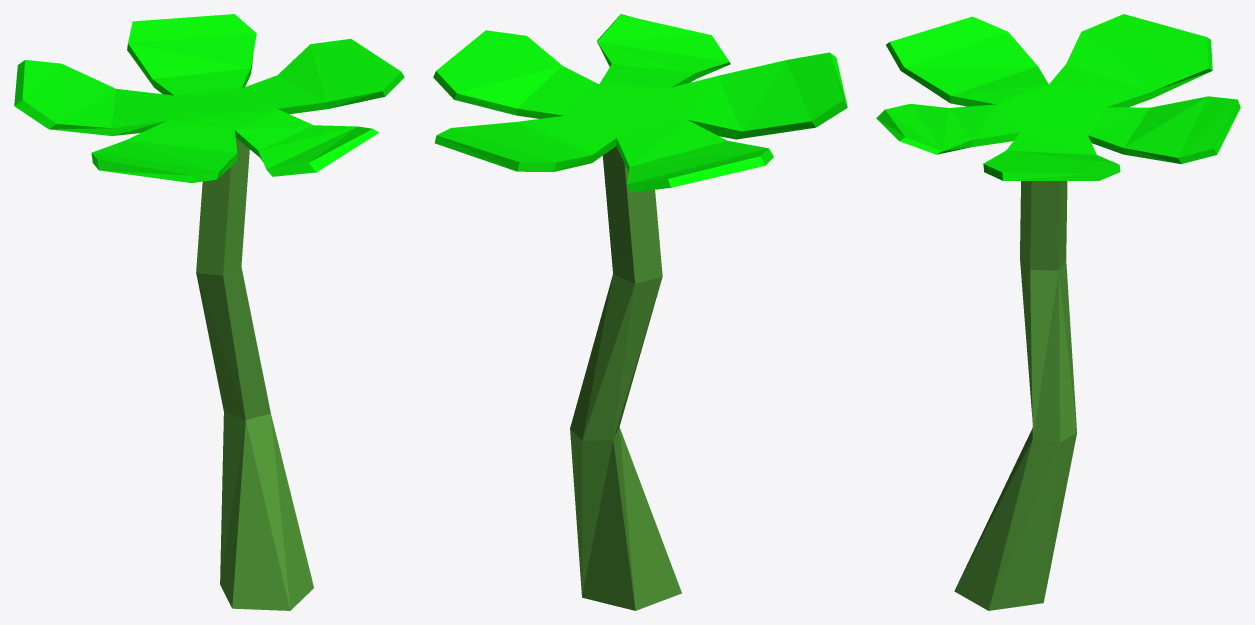
The model's file is grab_flower.obj.
The picture shows the model from 3 angles, left to right: view 1: azimuth 30°, elevation 25°; view 2: azimuth 150°, elevation 25°; view 3: azimuth 270°, elevation 25°; orthographic projection. The views are drawn at different scales.
Visible parts, largest first — view 1: Cube.001; view 2: Cube.001; view 3: Cube.001.
Part boxes in pixels (left/top/right/bottom): Cube.001: left=14, top=14, right=404, bottom=610; Cube.001: left=433, top=14, right=847, bottom=610; Cube.001: left=876, top=14, right=1240, bottom=610.
Size of the model in its own units: 0.4189 by 0.6021 by 0.4067.
